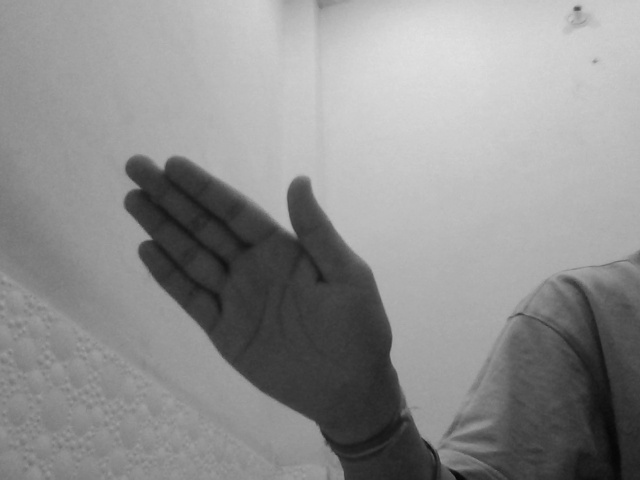Hello: (117, 151, 399, 431)
